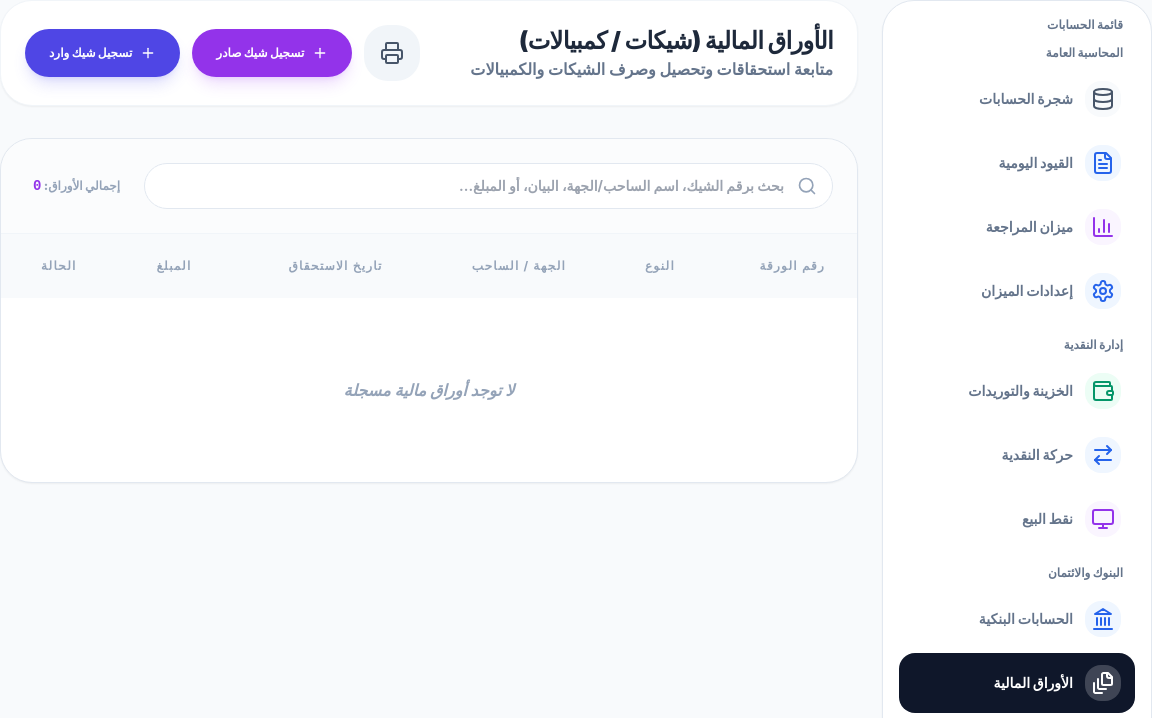
Test: coverage gap: finance master-data controls › opens the real papers add modal from the visible control
Click the button "تسجيل شيك صادر".
click(272, 53)  # box [192,29,352,77]
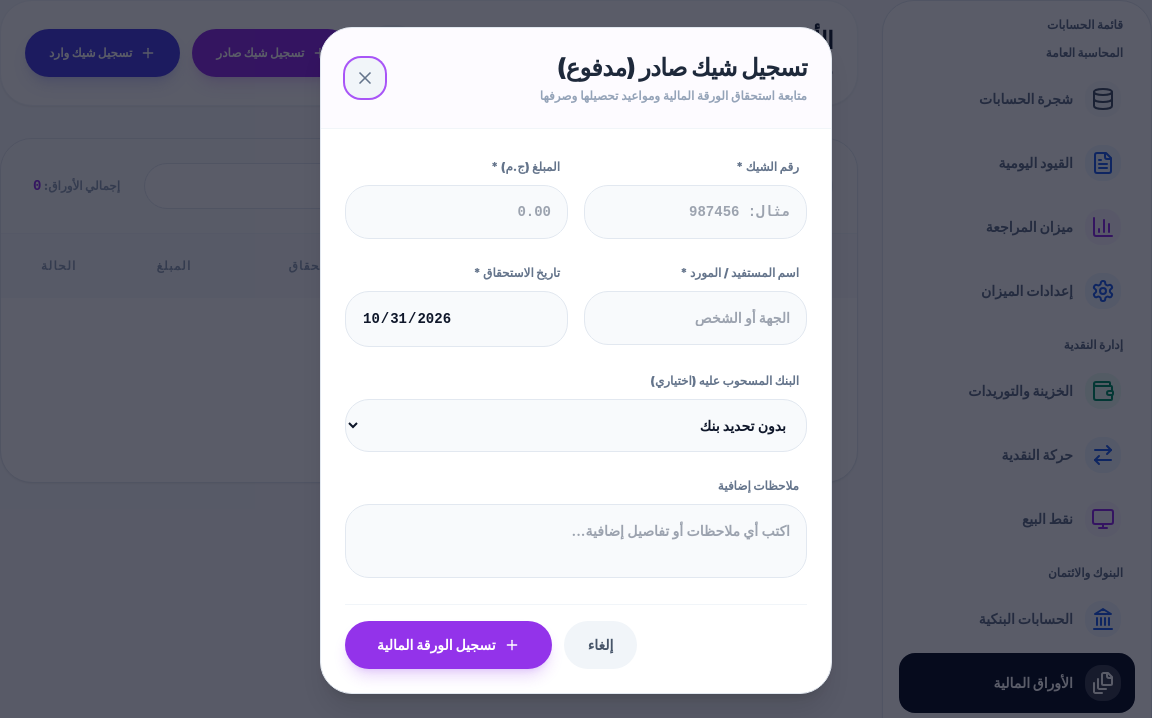
Now the heading "تسجيل شيك صادر (مدفوع)" is shown, box [540,52,807,84]
